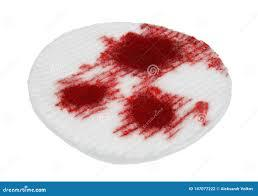cotton: (29, 23, 230, 162)
